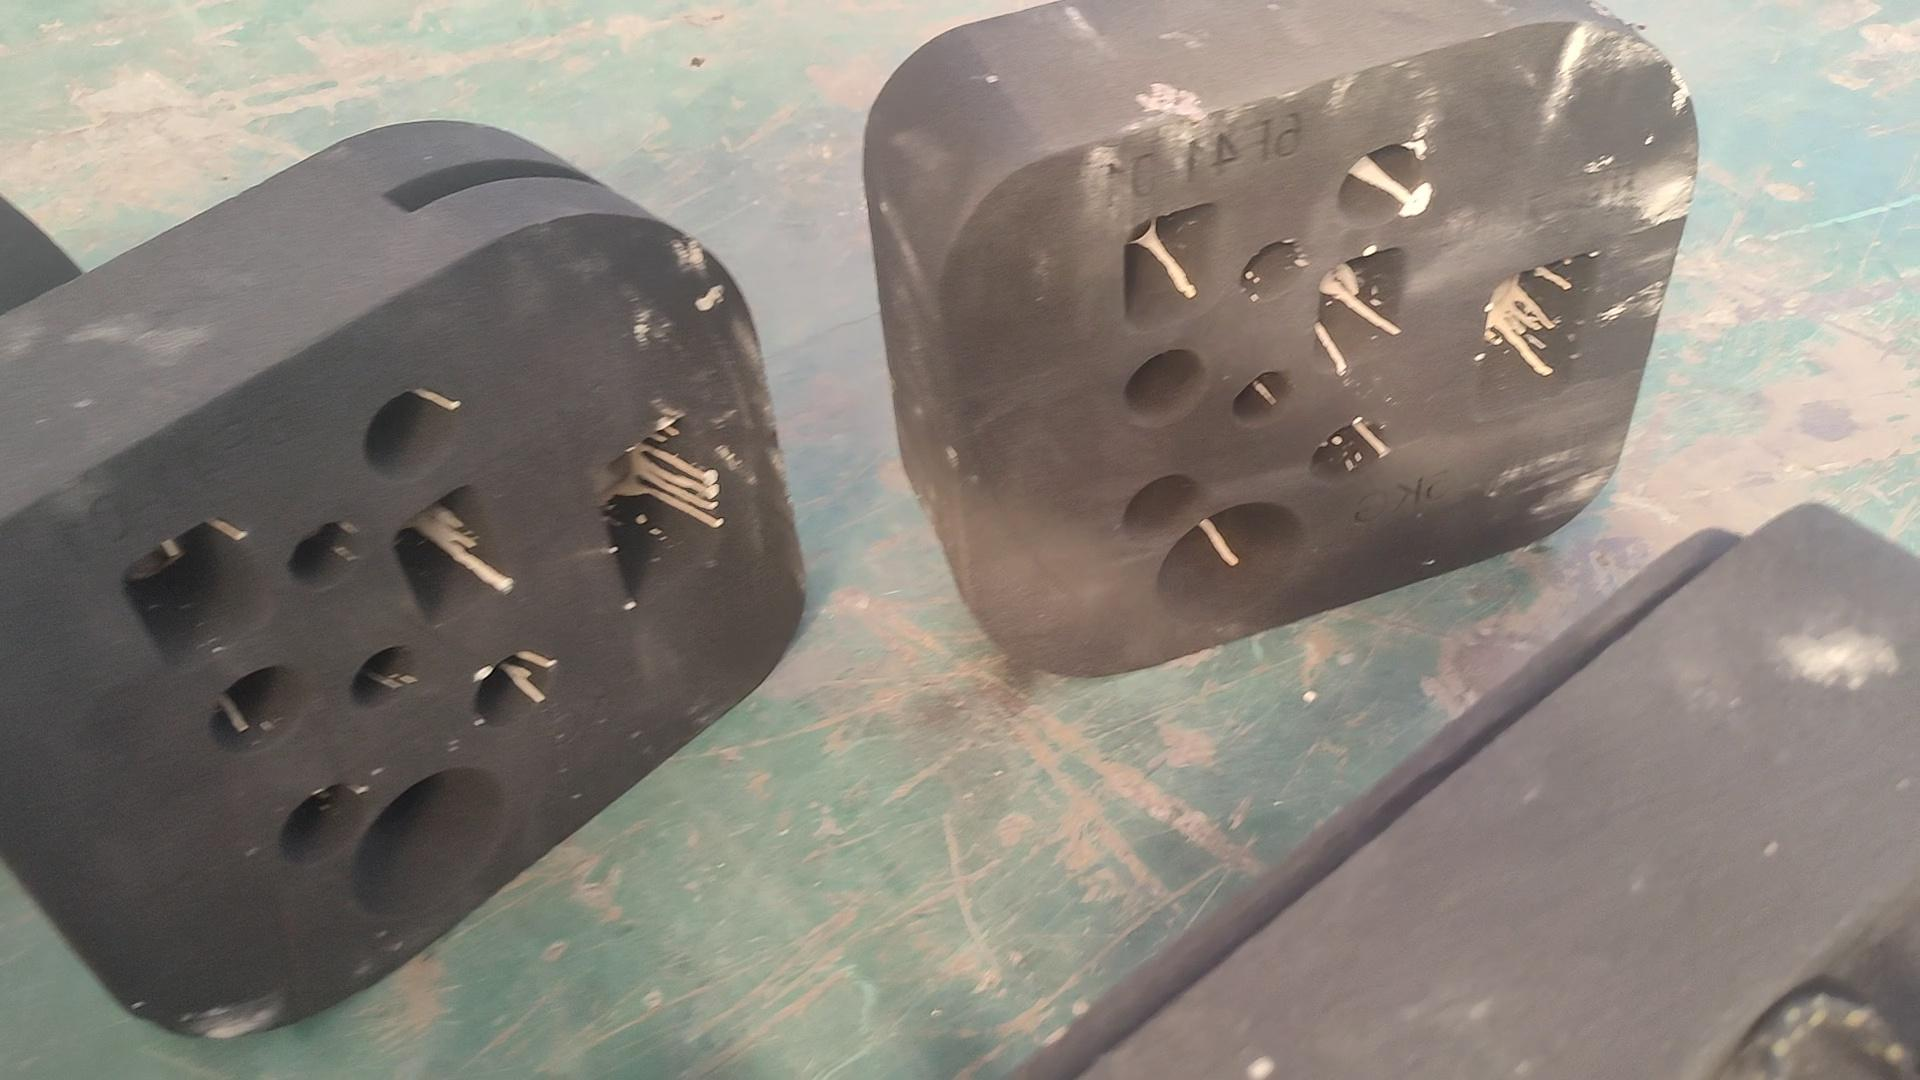pouring hole: (352, 766, 506, 927), (1156, 500, 1305, 622)
